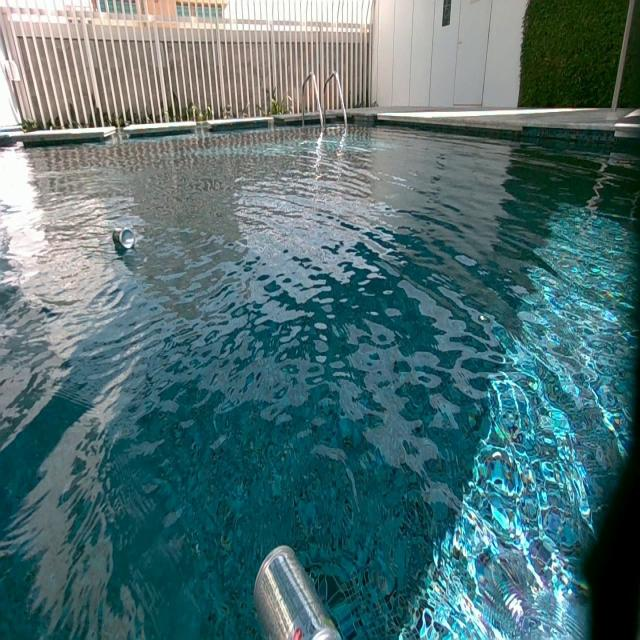Cans: (252, 543, 347, 636), (113, 220, 137, 251)
